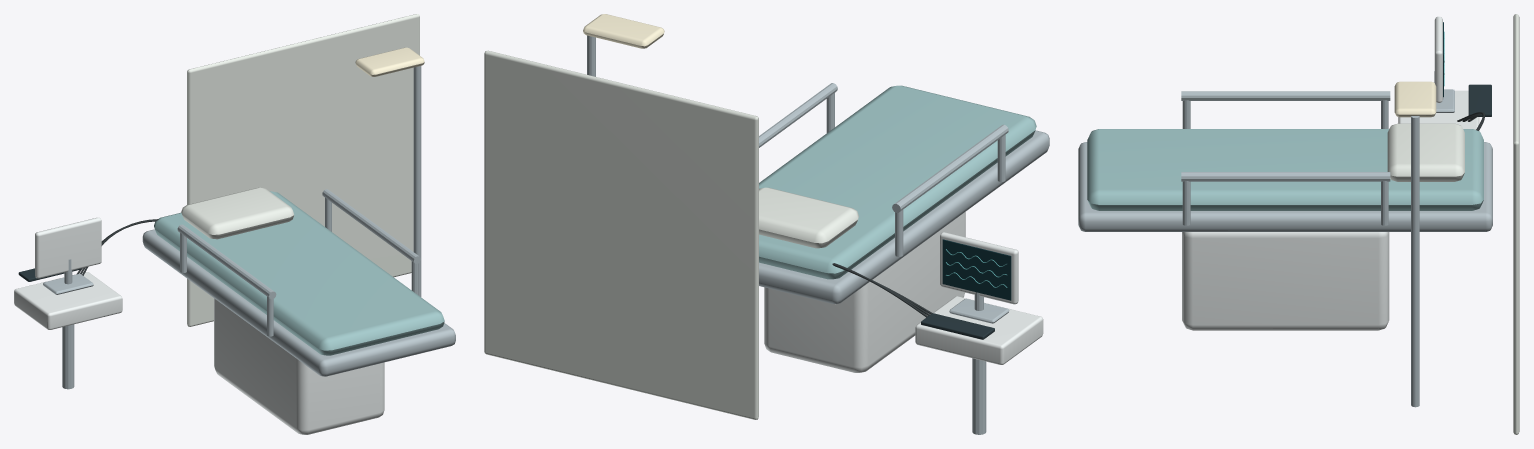
File: sleep.glb
The picture shows the model from 3 angles, left to right: view 1: azimuth 30°, elevation 25°; view 2: azimuth 150°, elevation 25°; view 3: azimuth 270°, elevation 25°; orthographic projection. The views are drawn at different scales.
Parts seen in each view (by area): view 1: Pillow.001, Mattress.001, Clinical bed pedestal, Adjustable bed frame, Warm task light; view 2: Pillow.001, Mattress.001, Clinical bed pedestal, Adjustable bed frame, Recording fictional display.001, Warm task light, Recording keyboard.001; view 3: Mattress.001, Clinical bed pedestal, Adjustable bed frame, Pillow.001, Warm task light, Recording keyboard.001.
Part boxes in pixels (box(x1,y1,x2,y2)): Pillow.001: box(181, 14, 419, 326); Mattress.001: box(154, 191, 444, 355); Clinical bed pedestal: box(14, 217, 384, 434); Adjustable bed frame: box(43, 66, 455, 389); Warm task light: box(355, 47, 424, 76); Pillow.001: box(484, 50, 858, 419); Mattress.001: box(759, 85, 1036, 279); Clinical bed pedestal: box(764, 212, 1043, 372); Adjustable bed frame: box(587, 35, 1049, 434); Recording fictional display.001: box(942, 239, 1011, 300); Warm task light: box(583, 14, 664, 48); Recording keyboard.001: box(921, 313, 994, 339); Mattress.001: box(1087, 129, 1483, 210); Clinical bed pedestal: box(1182, 16, 1479, 330); Adjustable bed frame: box(1078, 71, 1492, 407); Pillow.001: box(1387, 14, 1519, 434); Warm task light: box(1394, 81, 1436, 117); Recording keyboard.001: box(1468, 84, 1491, 116).
Bounding box in the file's own units: 3.1 × 1.84 × 2.45.
